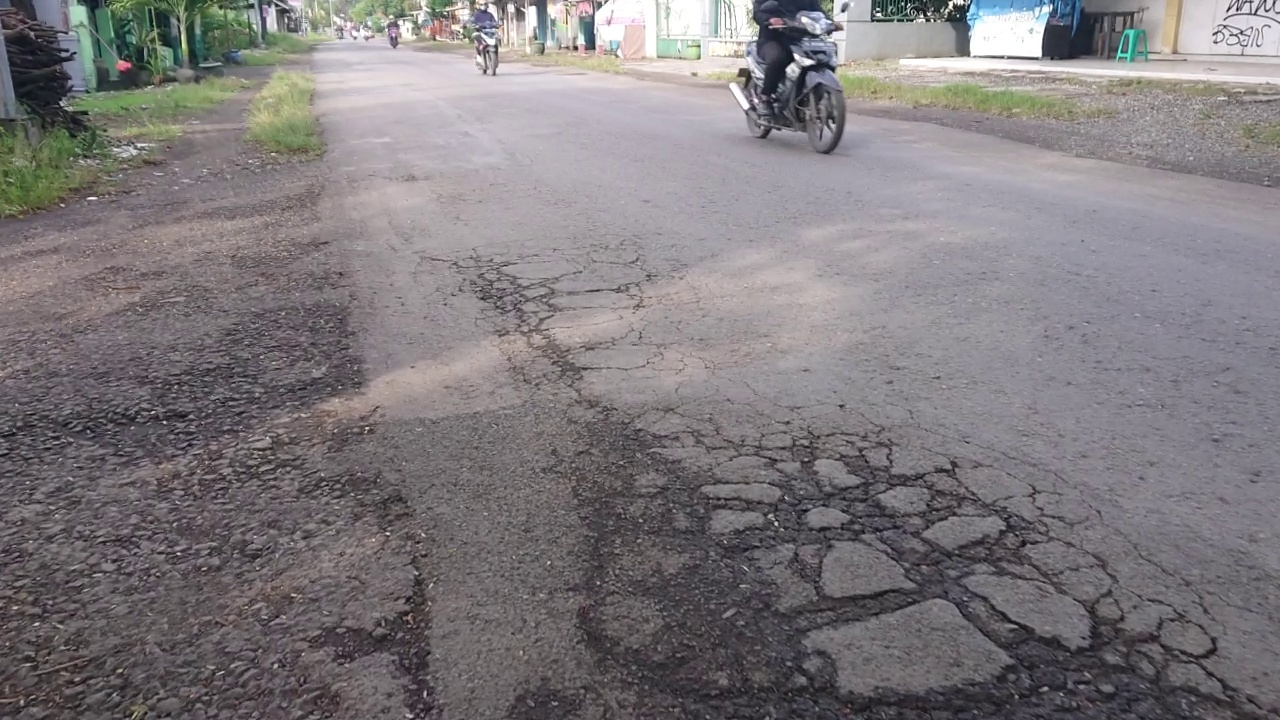Retak: (605, 447, 1223, 720), (481, 273, 657, 451)
